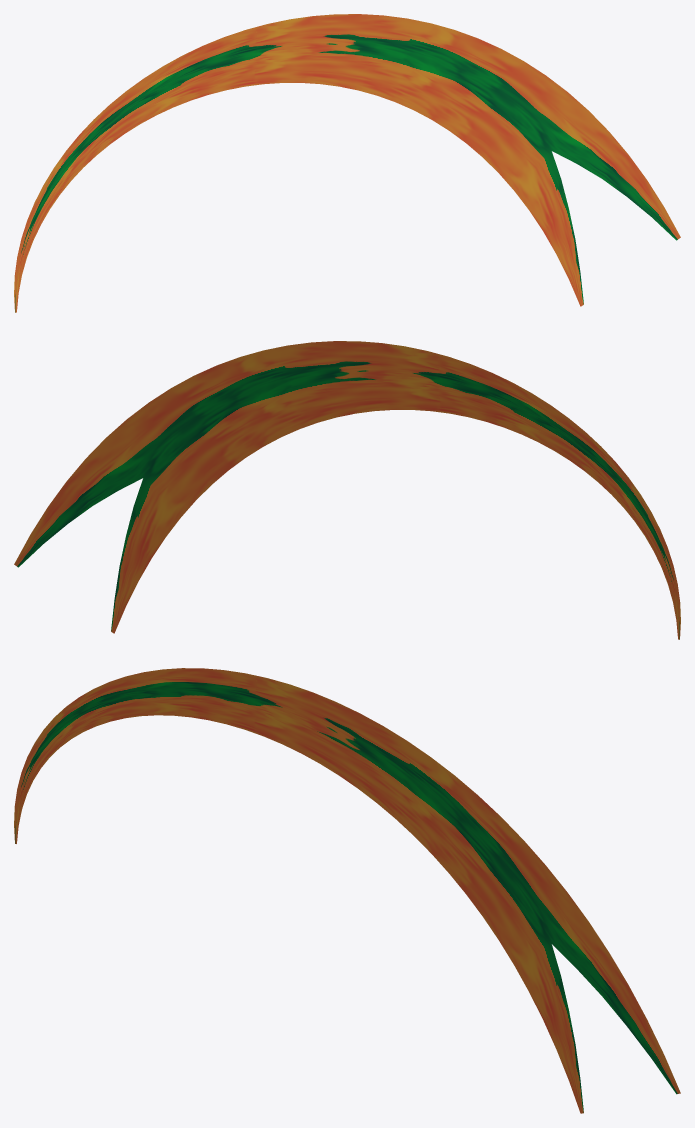
The model's file is p_trashbot_loop_sprinkler05_pose0.fbx.
3 renders of one model, top to bottom at view 1: azimuth 30°, elevation 25°; view 2: azimuth 150°, elevation 25°; view 3: azimuth 330°, elevation 25°, orthographic.
Parts seen in each view (by area): view 1: p_sprinkler_loop_plane_05_pose0; view 2: p_sprinkler_loop_plane_05_pose0; view 3: p_sprinkler_loop_plane_05_pose0.
Boxes of the visible parts, x1,y1,x2,y2 form: p_sprinkler_loop_plane_05_pose0: [14, 14, 680, 312]; p_sprinkler_loop_plane_05_pose0: [14, 341, 680, 639]; p_sprinkler_loop_plane_05_pose0: [14, 668, 680, 1113].
Size of the model in its own units: 146 by 75.27 by 2.47e-06.
